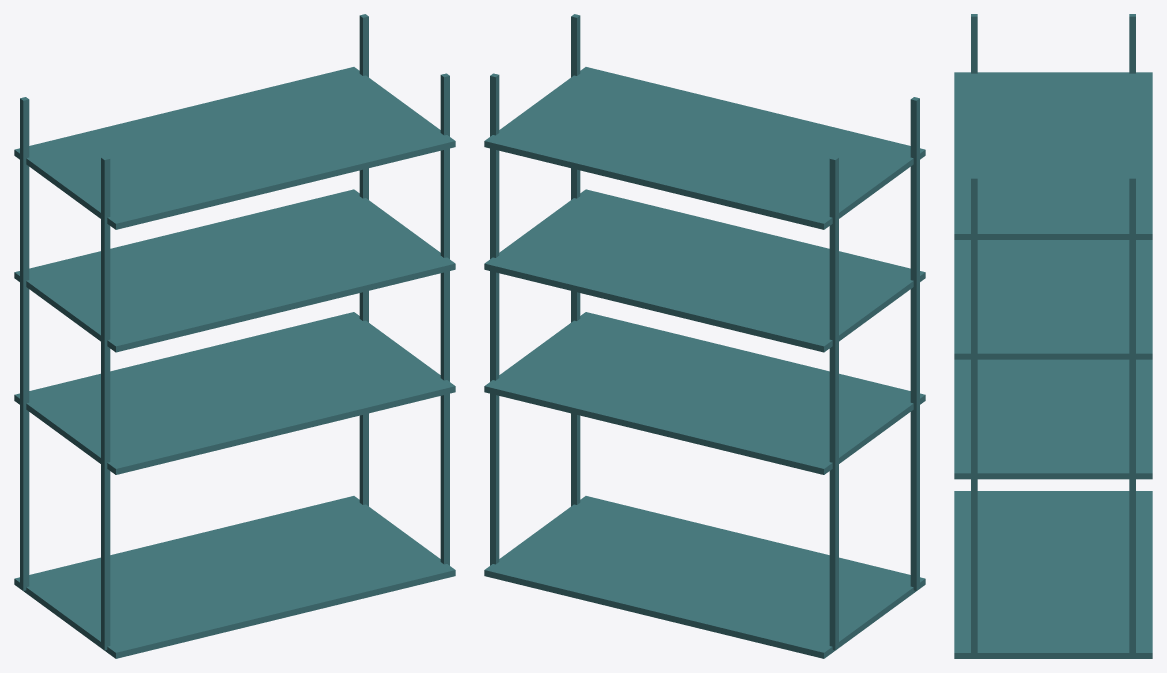
The model's file is tana4.glb.
The picture shows the model from 3 angles, left to right: view 1: azimuth 30°, elevation 25°; view 2: azimuth 150°, elevation 25°; view 3: azimuth 270°, elevation 25°; orthographic projection. The views are drawn at different scales.
Visible parts, largest first — view 1: tana4, tana1, tana3, tana2, bar2, bar1, bar3, bar4; view 2: tana4, tana1, tana3, tana2, bar1, bar2, bar4, bar3; view 3: tana4, tana1, tana2, tana3, bar4, bar3, bar2, bar1.
Part boxes in pixels (x1,y1,x2,y2): tana4: (14,67,455,229); tana1: (14,496,455,658); tana3: (14,189,455,352); tana2: (14,312,455,474); bar2: (101,156,110,650); bar1: (20,97,29,590); bar3: (440,73,449,565); bar4: (359,14,368,506); tana4: (484,67,925,229); tana1: (484,496,925,658); tana3: (484,189,925,352); tana2: (484,312,925,474); bar1: (829,156,838,650); bar2: (910,97,919,590); bar4: (490,73,499,565); bar3: (571,14,580,506); tana4: (954,72,1152,239); tana1: (954,491,1152,658); tana2: (954,359,1152,479); tana3: (954,240,1152,359); bar4: (1129,176,1135,657); bar3: (971,176,977,657); bar2: (971,14,977,73); bar1: (1129,14,1135,73).
Bounding box in the file's own units: 2.95 × 4.03 × 1.5.
